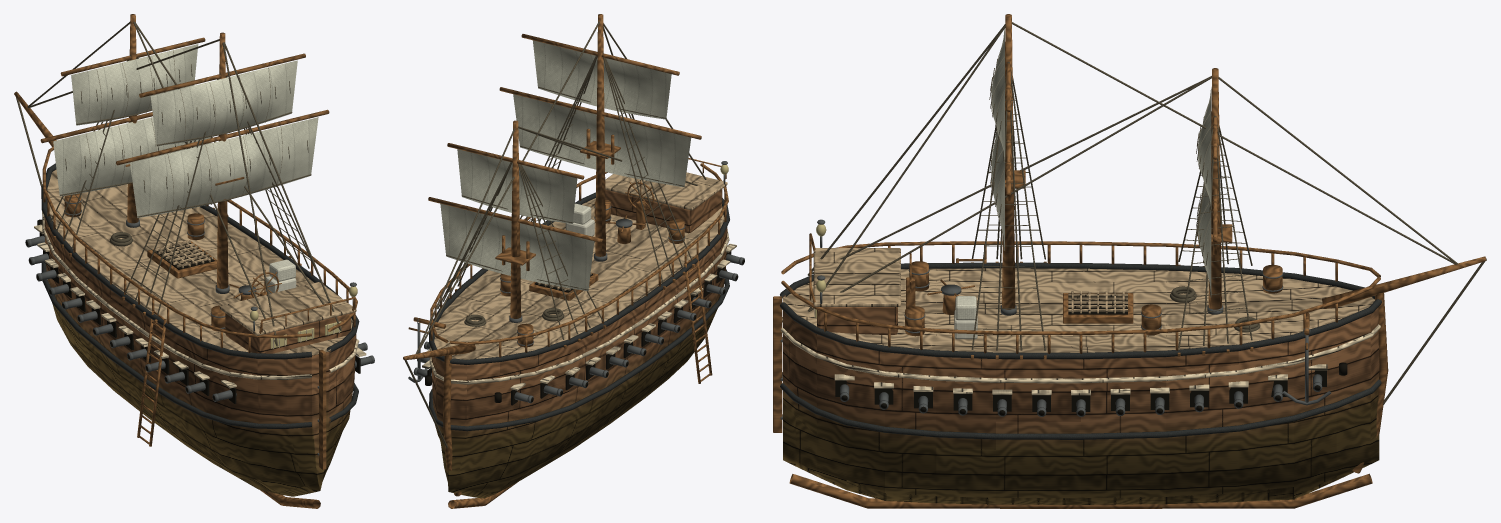
File: justine.glb
The picture shows the model from 3 angles, left to right: view 1: azimuth 30°, elevation 25°; view 2: azimuth 150°, elevation 25°; view 3: azimuth 270°, elevation 25°; orthographic projection. The views are drawn at different scales.
Parts seen in each view (by area): view 1: justine_geometry; view 2: justine_geometry; view 3: justine_geometry.
Boxes of the visible parts, bbox=[...] form: justine_geometry: bbox=[14, 14, 374, 508]; justine_geometry: bbox=[403, 14, 744, 508]; justine_geometry: bbox=[773, 14, 1486, 508].
Size of the model in its own units: 6.61 by 12.78 by 16.76.
9 materials, 9 textured.
